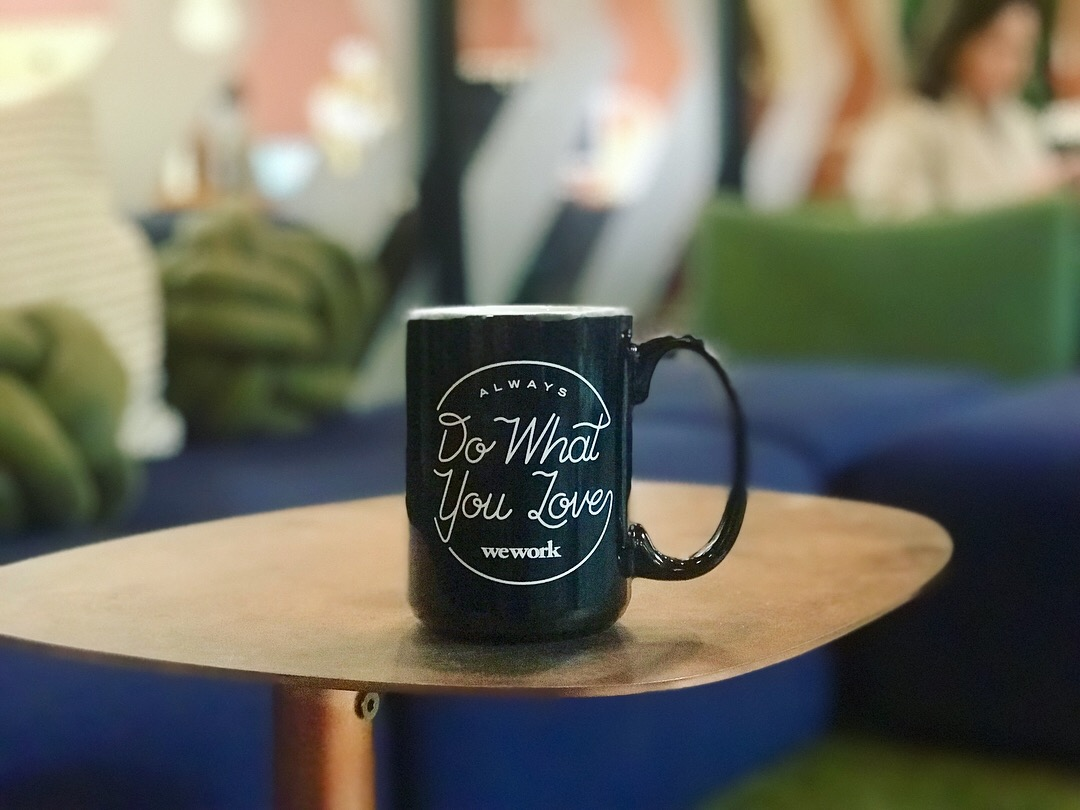wework: (477, 539, 566, 564)
